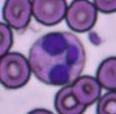N: (28, 31, 85, 85)
